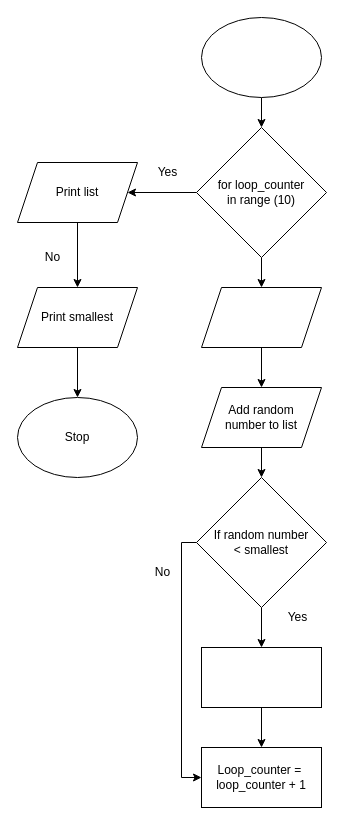
Image size: 344x825. Some labels were removed from this diagram. Each missing label, with the centre of its shape:
Generate random number: the point at 261,317
smallest = random number: the point at 261,677
Start: the point at 261,57
